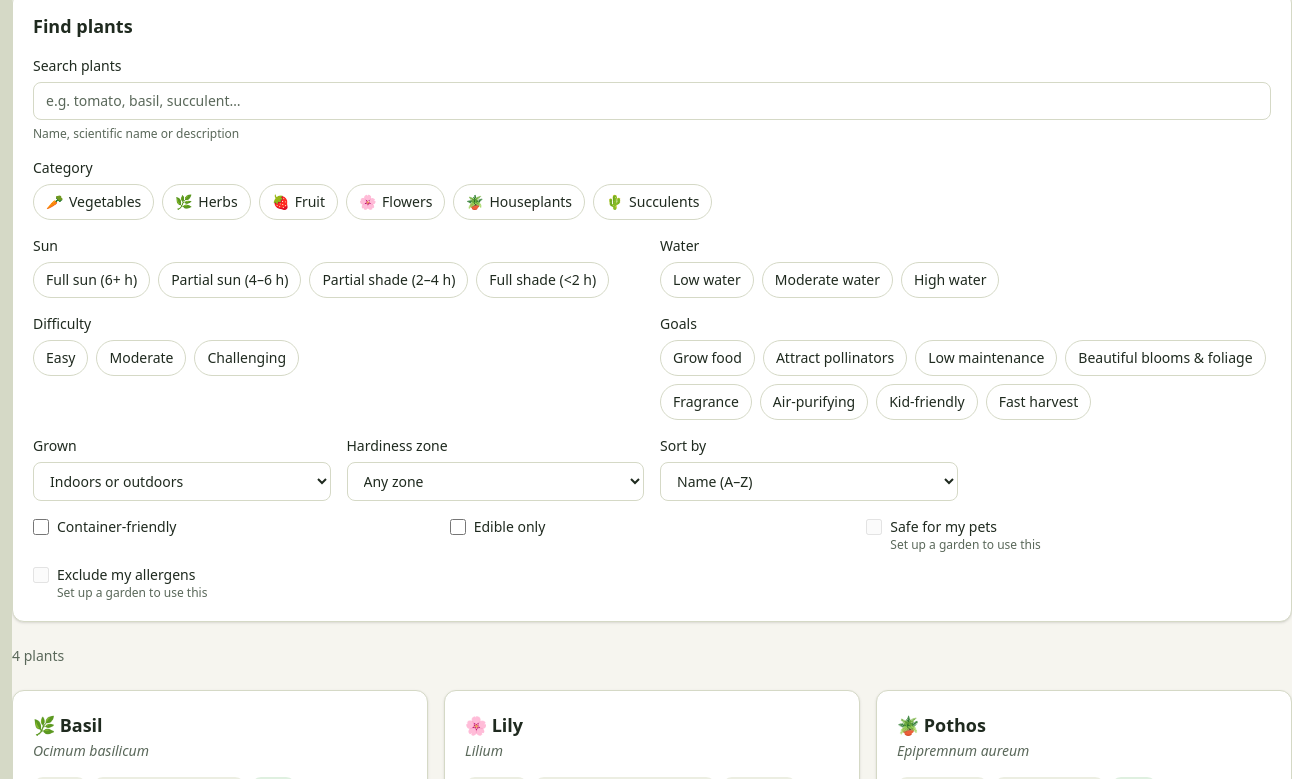
PlantLibrary › shows a friendly empty state when nothing matches
In the search field: [652, 101] box [33,82,1271,120], type "zzzz"
(page scrolled)
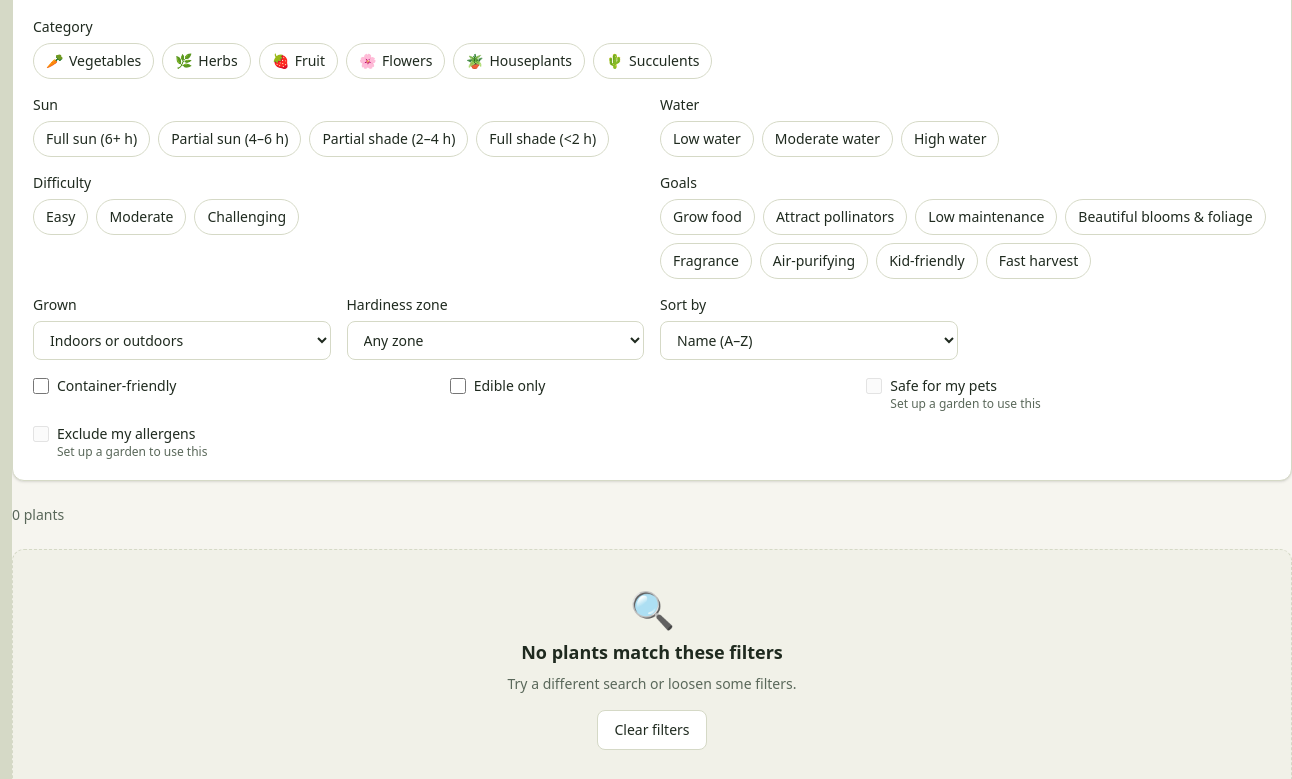
Expected: the heading "No plants match these filters" is shown, [521,638,783,666]
